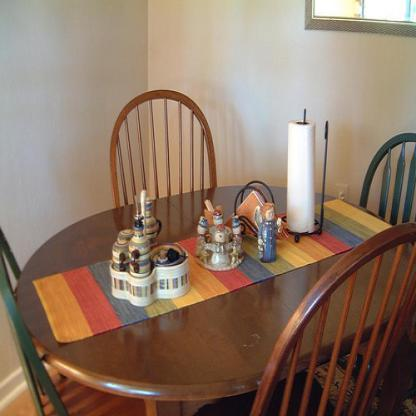chair: (193, 224, 415, 415), (0, 227, 146, 415), (110, 90, 219, 210), (359, 133, 415, 226)
diningtable: (12, 185, 410, 415)
